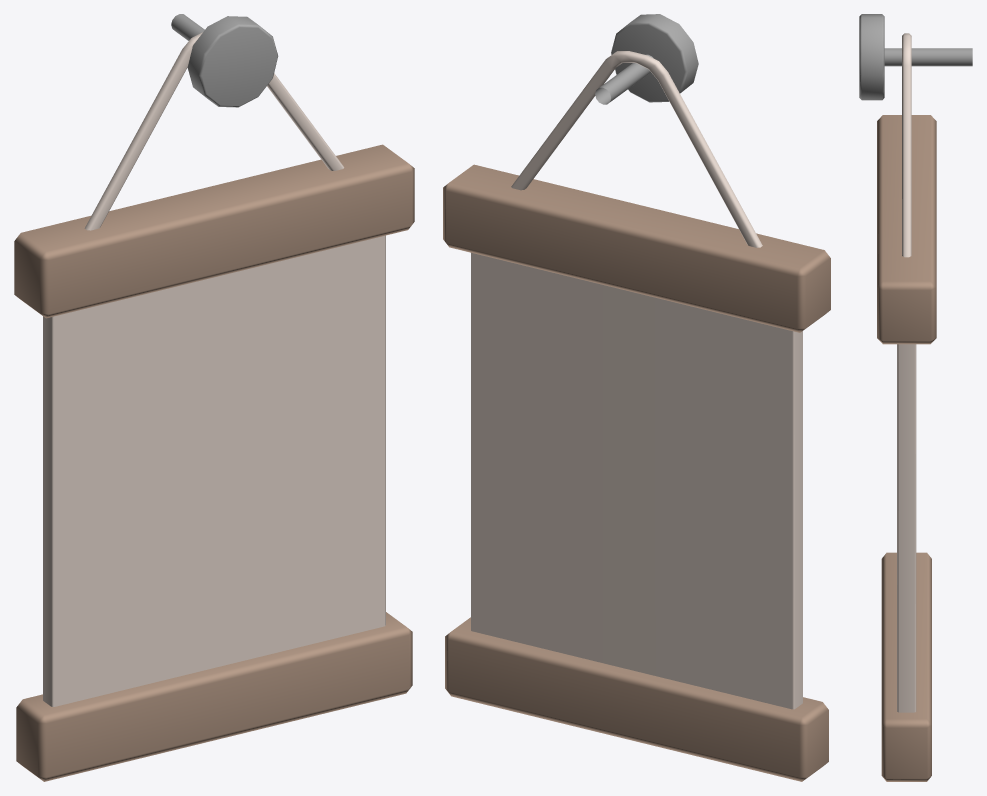
File: Note_7.glb
The picture shows the model from 3 angles, left to right: view 1: azimuth 30°, elevation 25°; view 2: azimuth 150°, elevation 25°; view 3: azimuth 270°, elevation 25°; orthographic projection. The views are drawn at different scales.
Visible parts, largest first — view 1: Note_7; view 2: Note_7; view 3: Note_7.
Part boxes in pixels (x1=…): Note_7: x1=14, y1=14, x2=414, y2=781; Note_7: x1=443, y1=14, x2=830, y2=781; Note_7: x1=859, y1=14, x2=972, y2=781.
Size of the model in its own units: 0.3171 by 0.5846 by 0.0881.
1 material, 1 textured.
